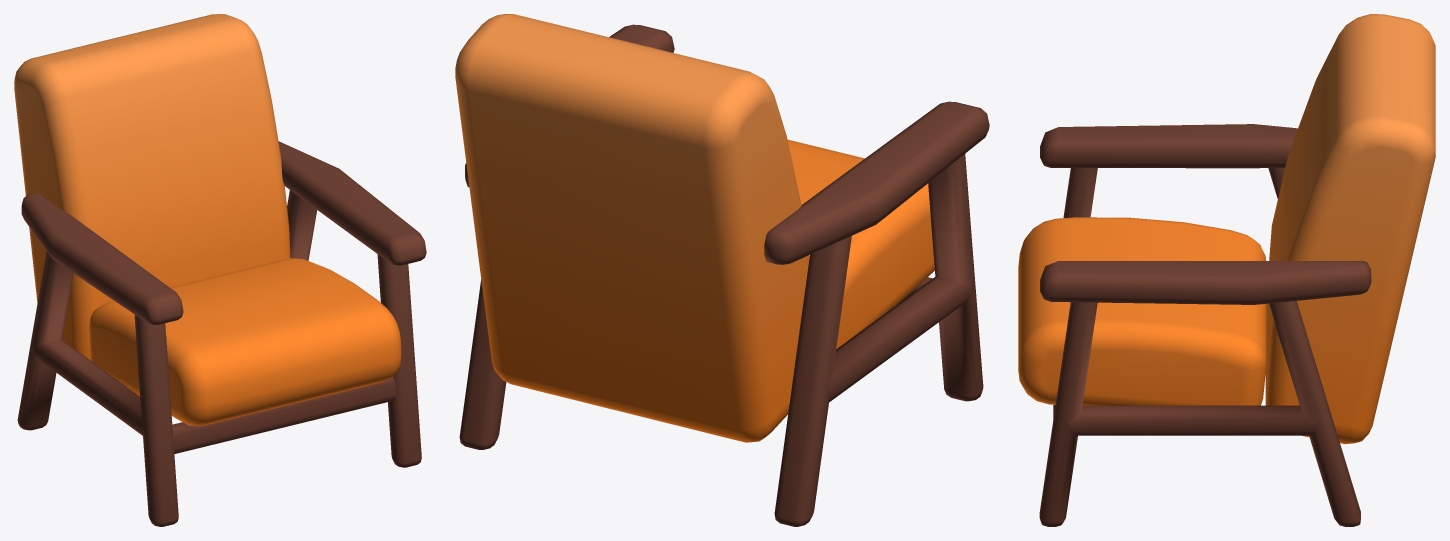
Rendered from Armchair_002.fbx.
3 renders of one model, left to right at view 1: azimuth 30°, elevation 25°; view 2: azimuth 150°, elevation 25°; view 3: azimuth 270°, elevation 25°, orthographic. The views are drawn at different scales.
Parts seen in each view (by area): view 1: Armchair_002; view 2: Armchair_002; view 3: Armchair_002.
Boxes of the visible parts, <box> form: Armchair_002: <box>14,14,426,526</box>; Armchair_002: <box>455,14,989,526</box>; Armchair_002: <box>1018,14,1435,526</box>.
Size of the model in its own units: 0.8035 by 0.9139 by 0.885.
